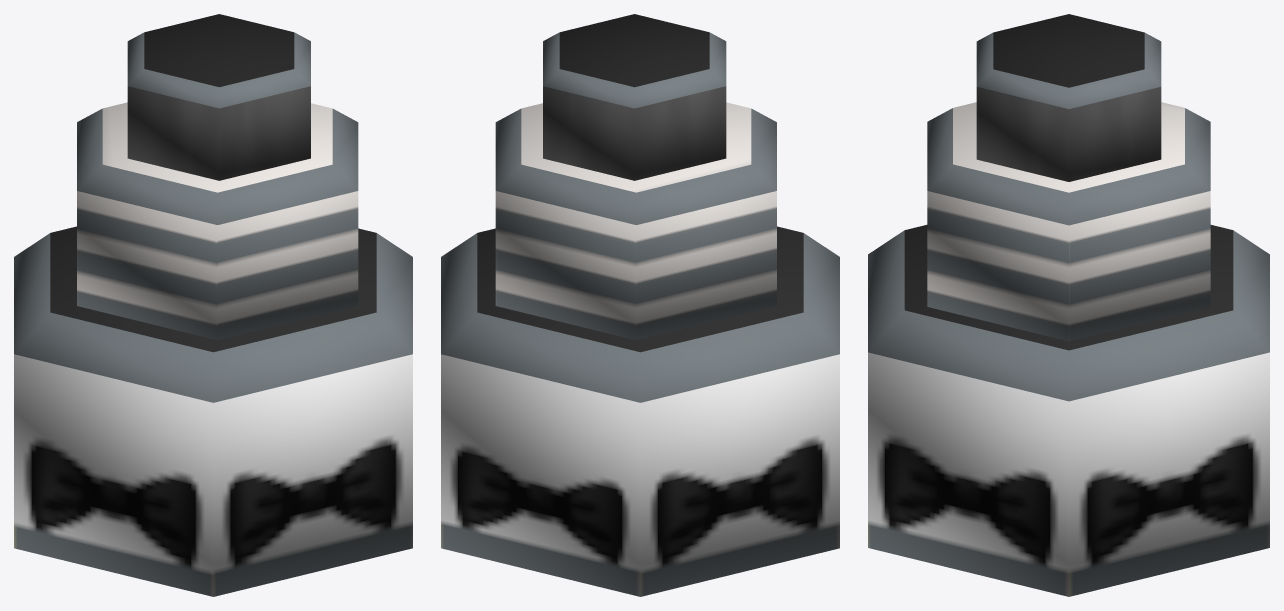
File: Wedding_Cake_B.FBX
3 renders of one model, left to right at view 1: azimuth 30°, elevation 25°; view 2: azimuth 150°, elevation 25°; view 3: azimuth 270°, elevation 25°, orthographic.
Parts seen in each view (by area): view 1: Wedding_Cake_A; view 2: Wedding_Cake_A; view 3: Wedding_Cake_A.
Part boxes in pixels (left/top/right/bottom): Wedding_Cake_A: left=14, top=14, right=412, bottom=596; Wedding_Cake_A: left=441, top=14, right=839, bottom=596; Wedding_Cake_A: left=868, top=14, right=1269, bottom=596.
Bounding box in the file's own units: 102 × 110 × 88.51.
